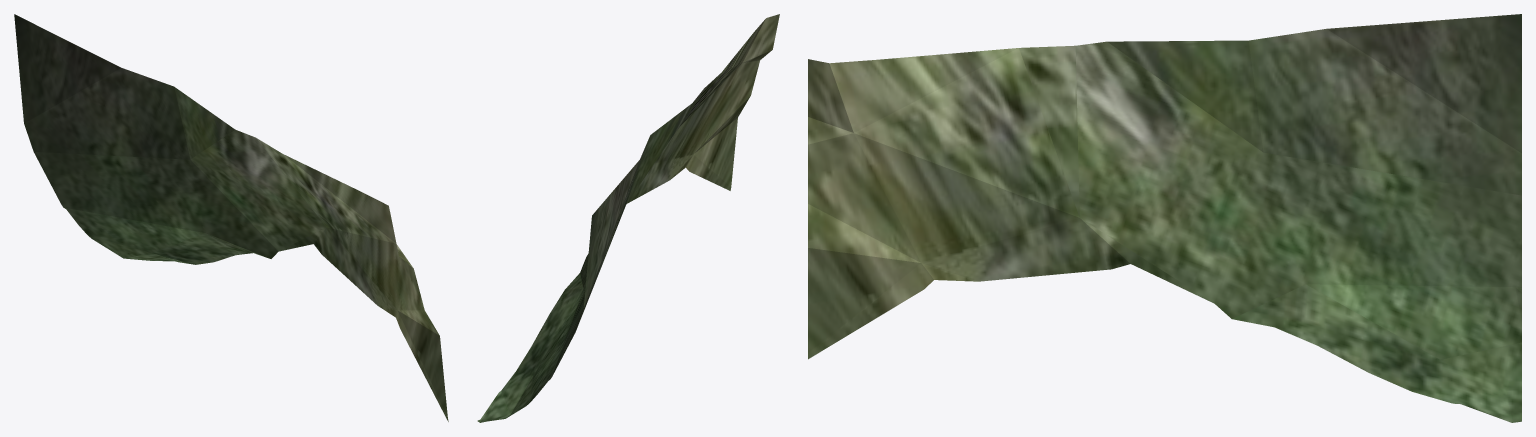
3 renders of one model, left to right at view 1: azimuth 30°, elevation 25°; view 2: azimuth 150°, elevation 25°; view 3: azimuth 270°, elevation 25°, orthographic. The views are drawn at different scales.
Bounding box in the file's own units: 1.54 × 3.01 × 5.9.
Materials: 1 (1 with a texture image).
